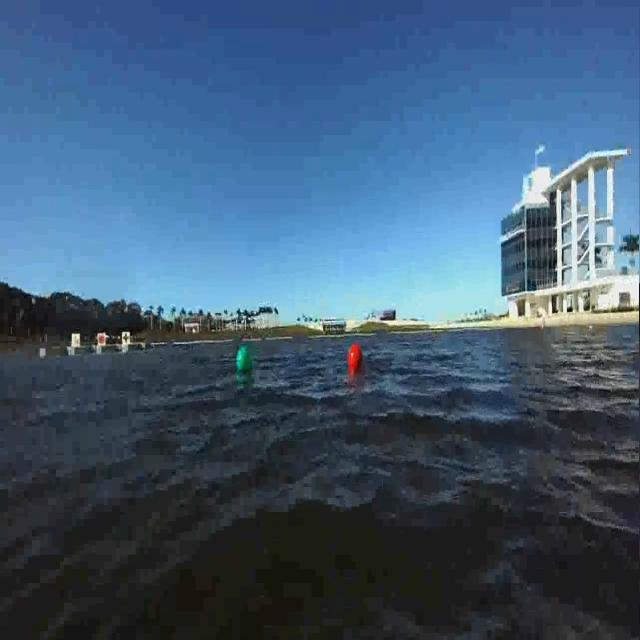green-buoy: (236, 344, 254, 374)
red-buoy: (349, 344, 362, 370)
